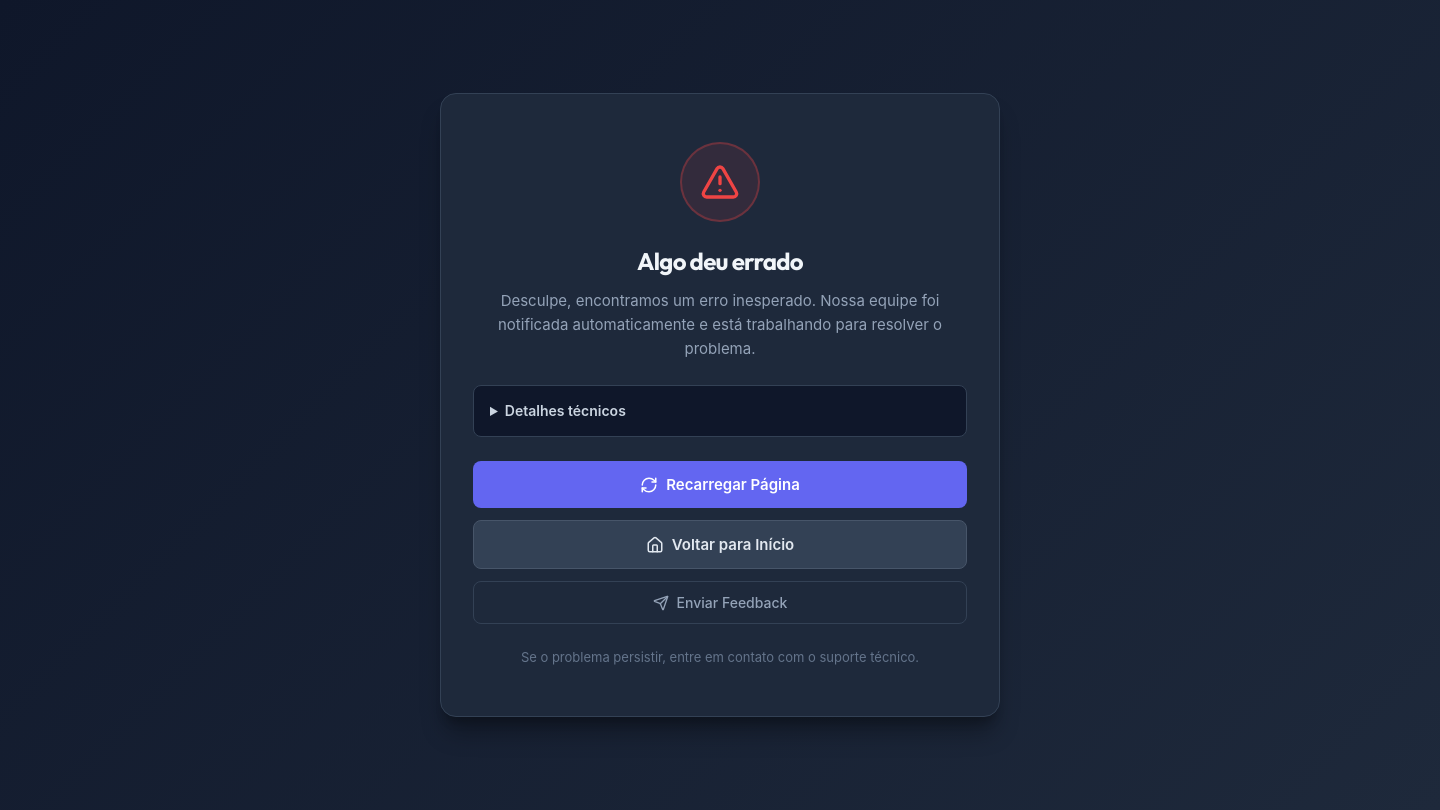
it: SentryErrorFallback › should display event ID when provided
The width and height of the screenshot is (1440, 810).
Expand details
Click the heading "Detalhes técnicos" at (565, 411), box [505, 402, 626, 419]
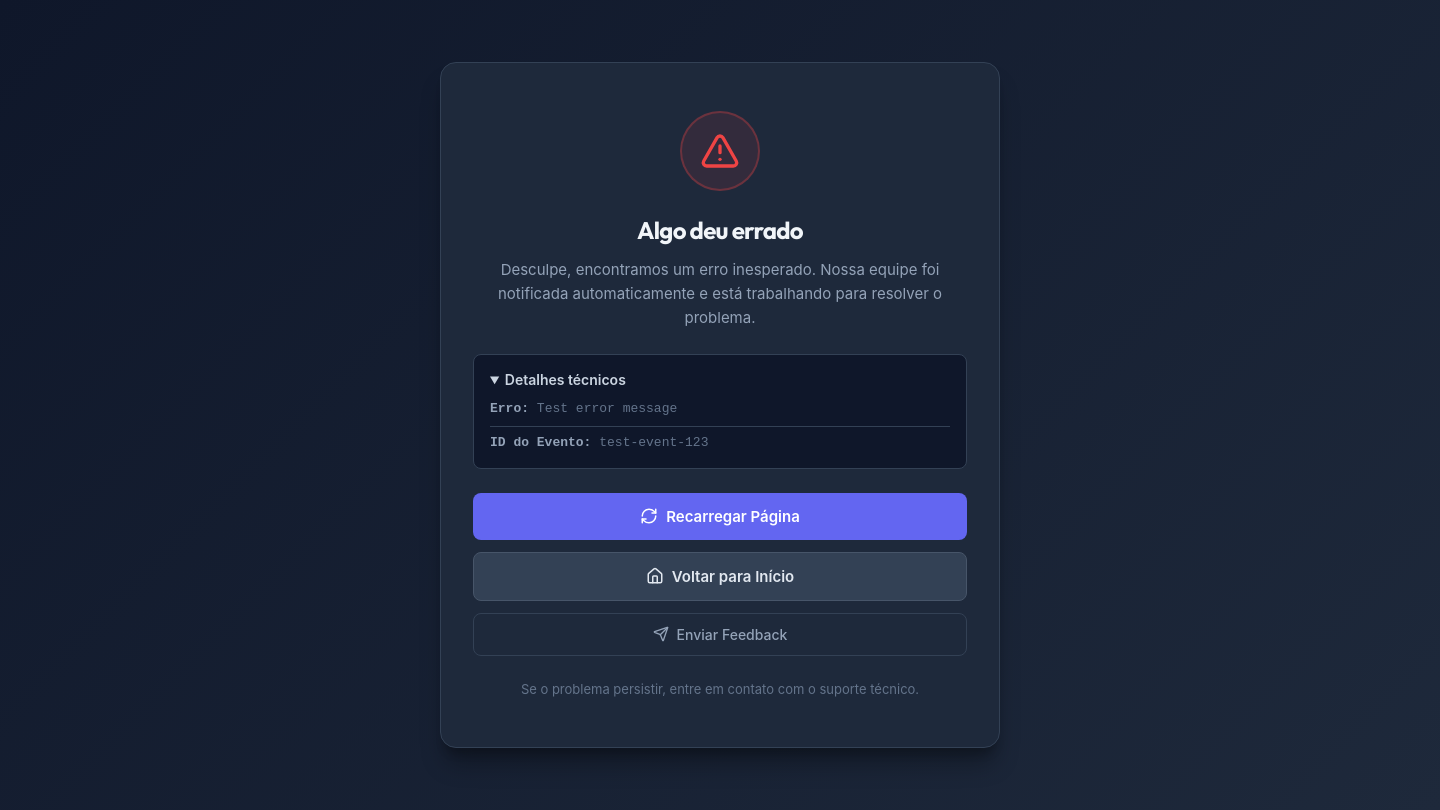
Check: the text "ID do Evento:" is shown, box [490, 435, 591, 450]
Check: the text "test-event-123" is shown, box [599, 435, 708, 450]
